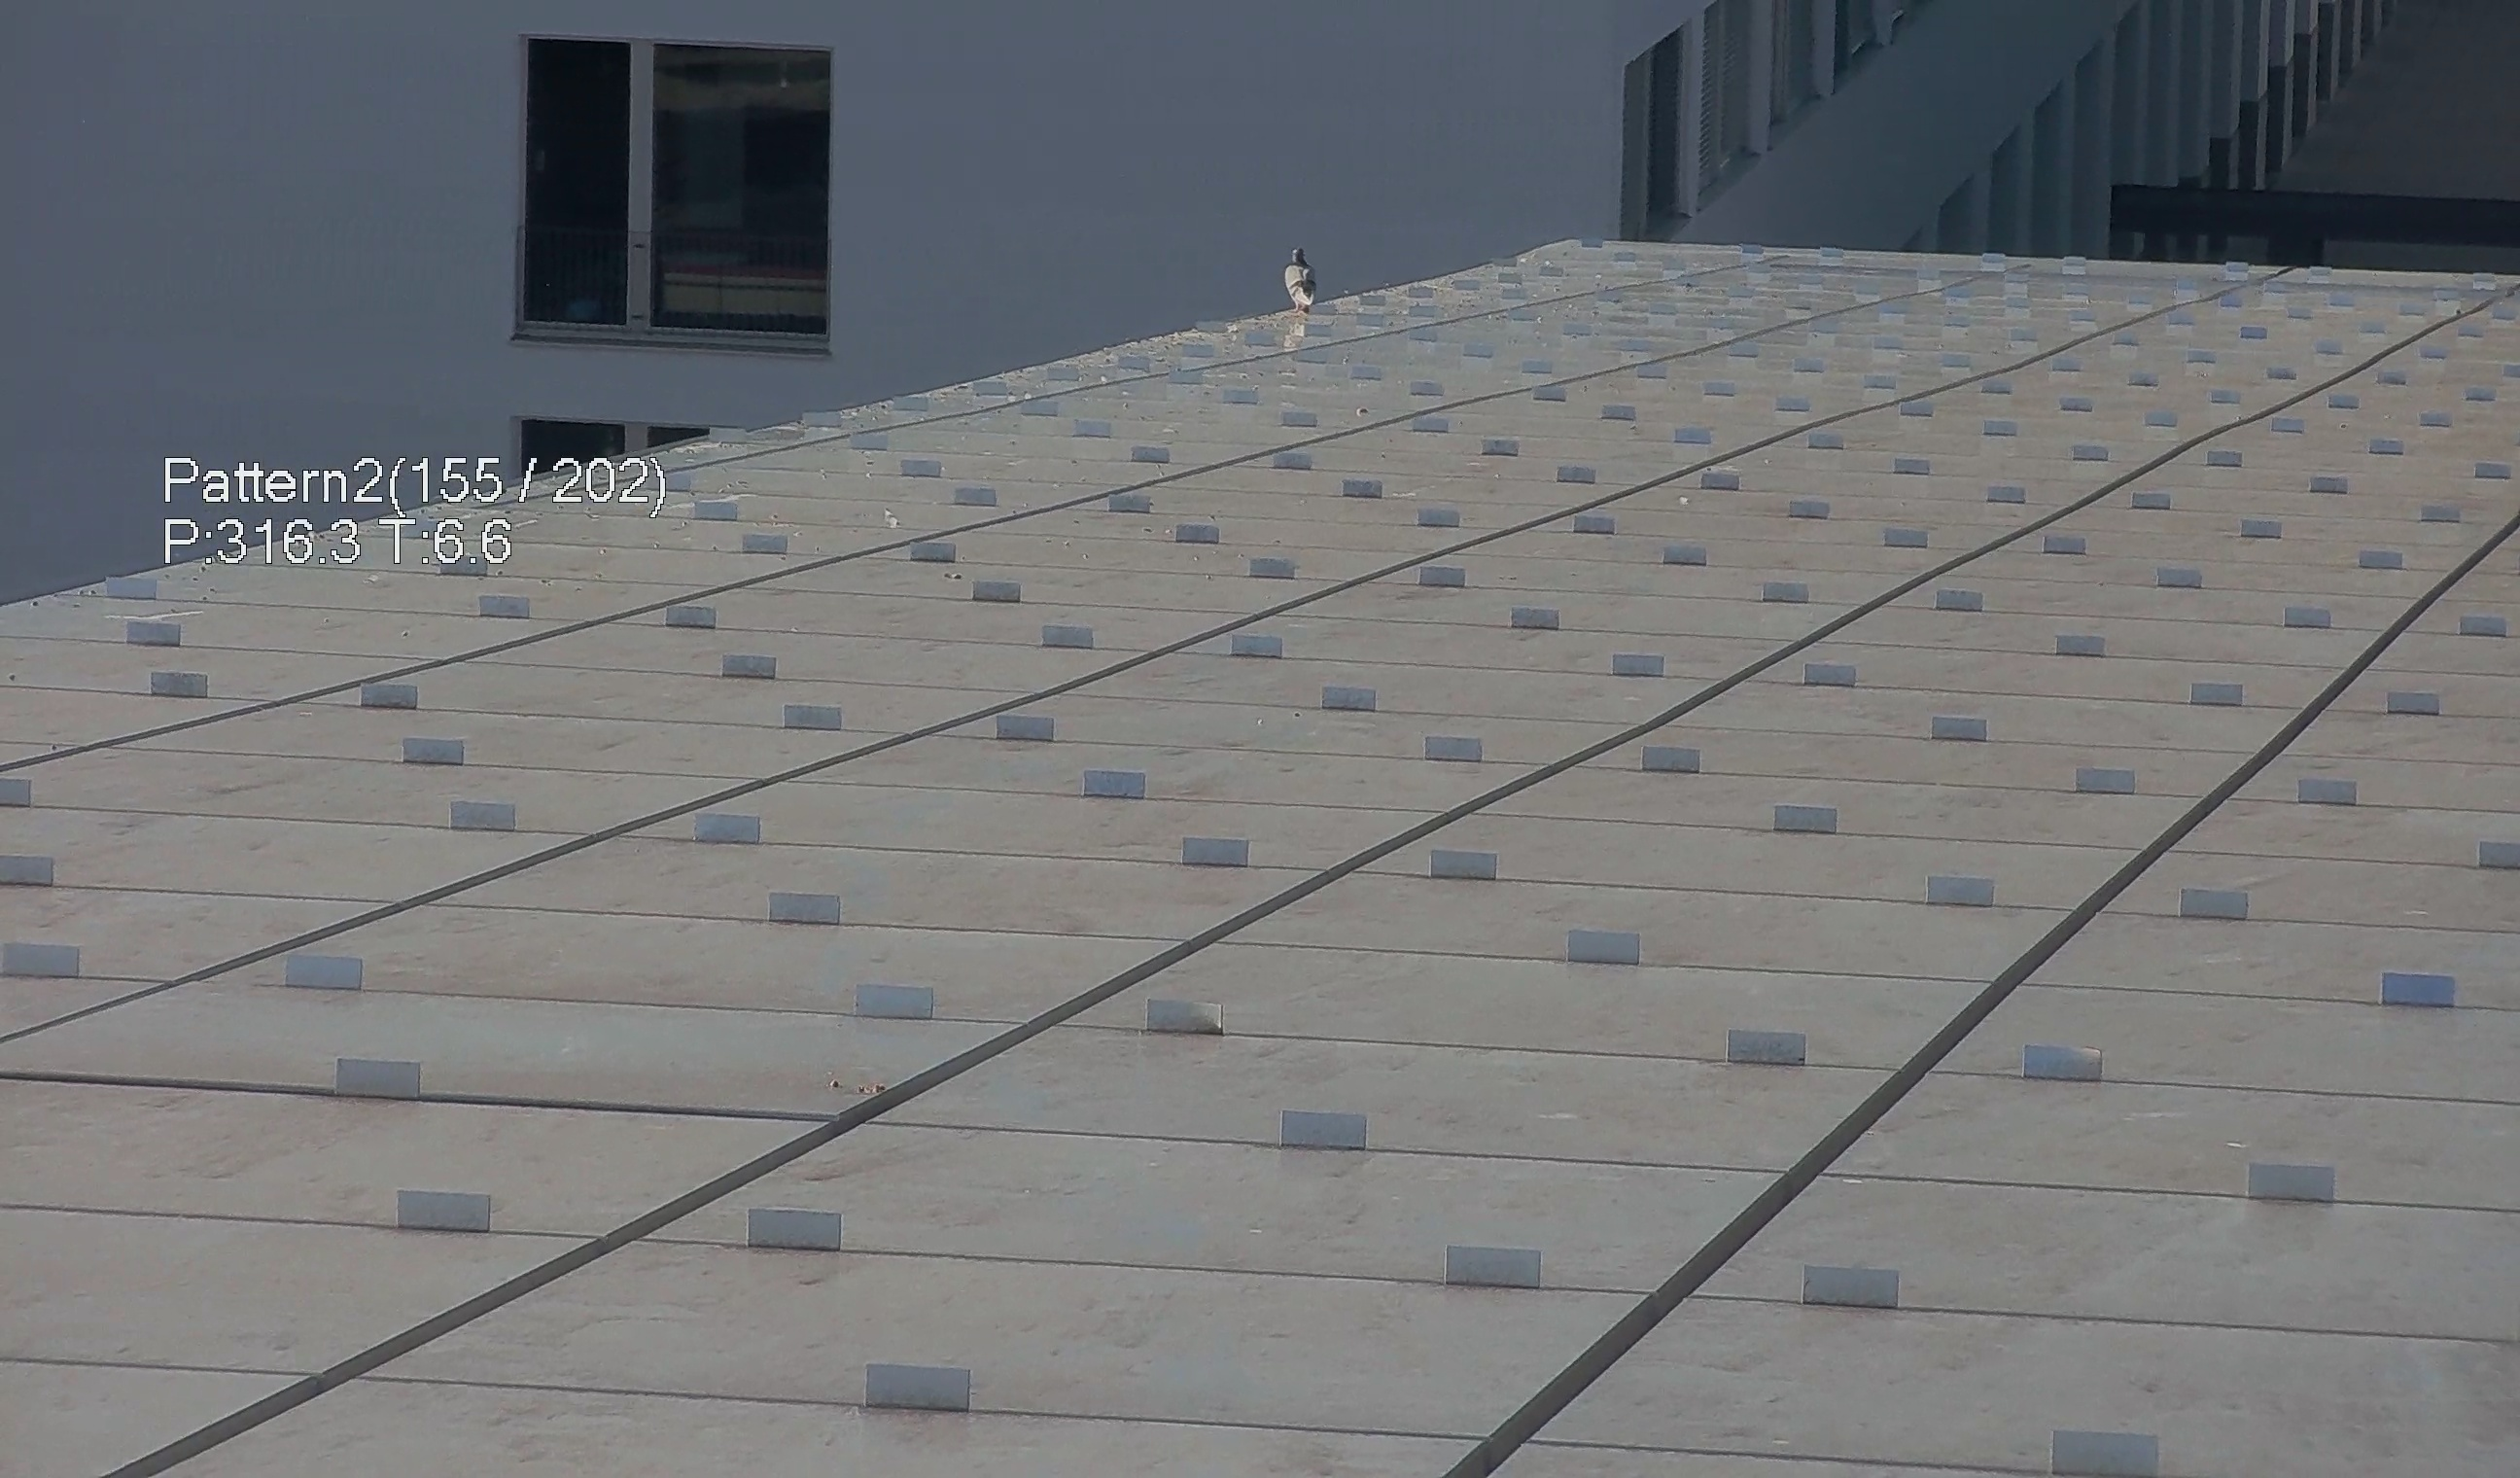Pigeon: (1273, 227, 1319, 324)
